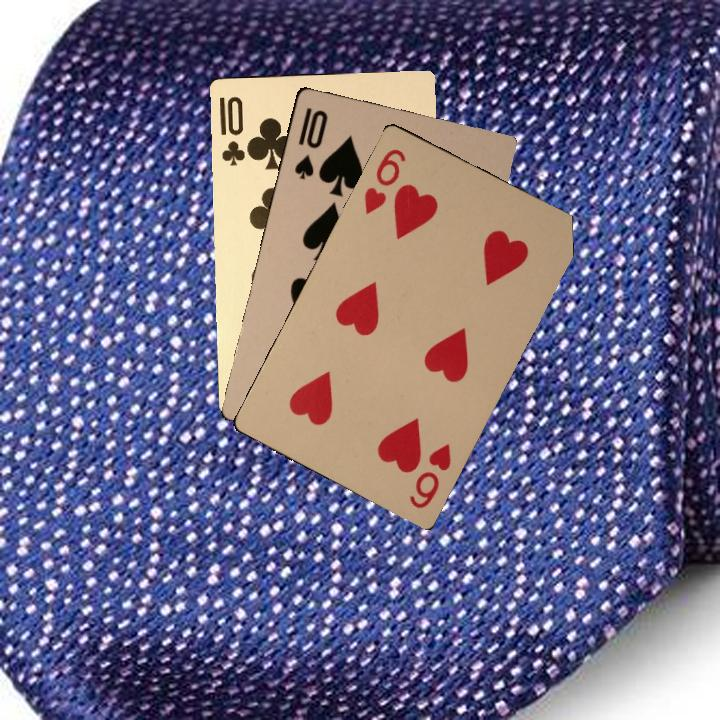10c: (215, 92, 247, 168)
10s: (290, 103, 331, 182)
6h: (405, 439, 454, 511), (360, 144, 409, 215)
